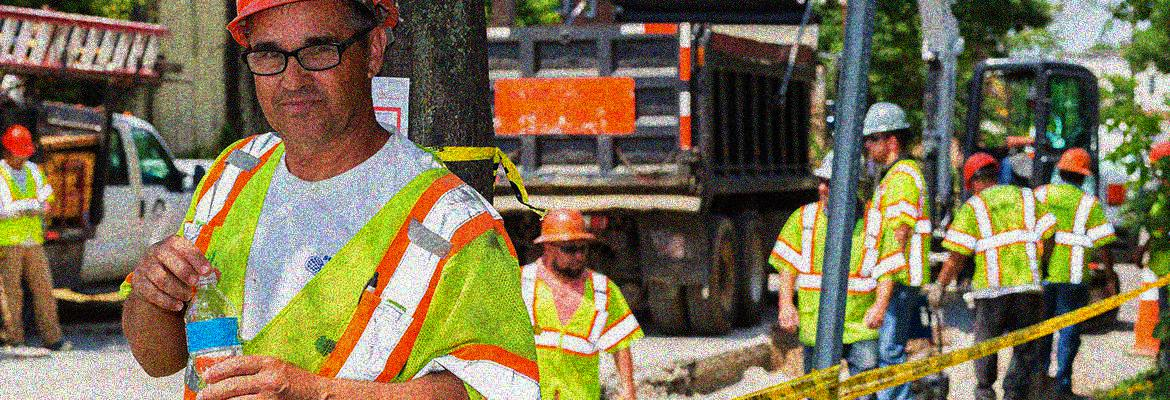helmet: (225, 1, 403, 146), (533, 208, 596, 283), (860, 99, 915, 161), (812, 149, 856, 205), (1, 123, 37, 172), (963, 150, 1000, 196), (1059, 146, 1093, 188)
